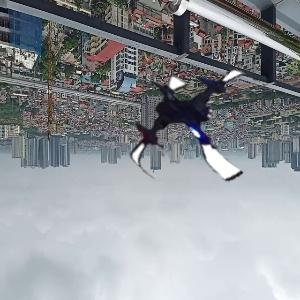drone: (125, 51, 277, 203)
